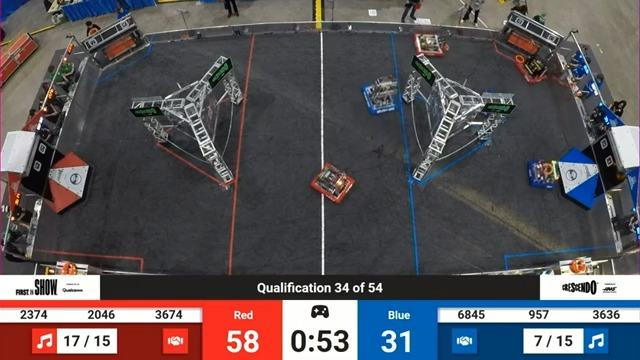robot: (305, 156, 362, 203), (356, 68, 405, 120), (506, 43, 560, 87), (408, 25, 464, 62), (524, 150, 561, 192)
